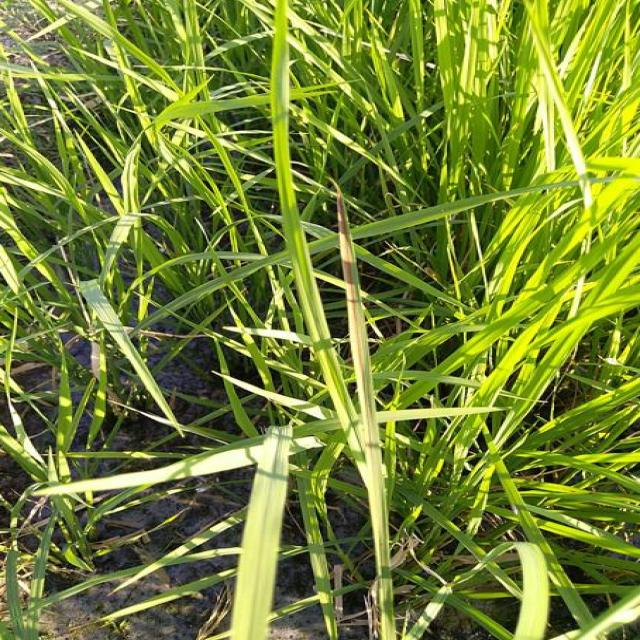Leaf Streak: (331, 181, 376, 457)
